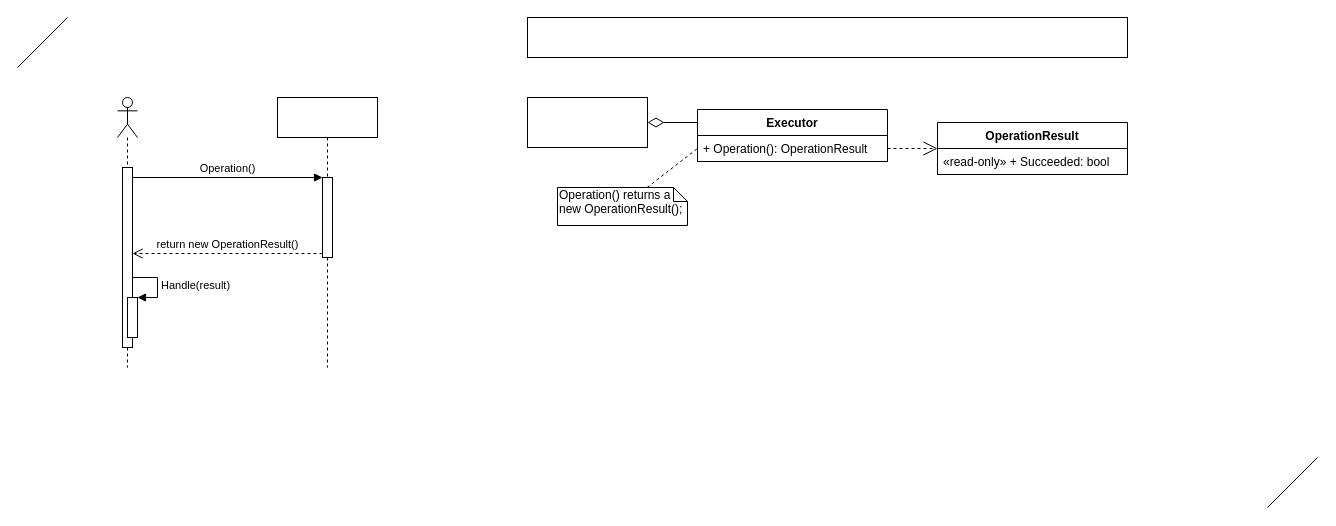
This 1336x526 diagram has some shape labels left out. Here are the shapes that lost their labels. From the top down, the centre of each, then its label:
At [827,37]: "600 px MAX width".
At [587,122]: "Client".
At [327,232]: ":Executor".
